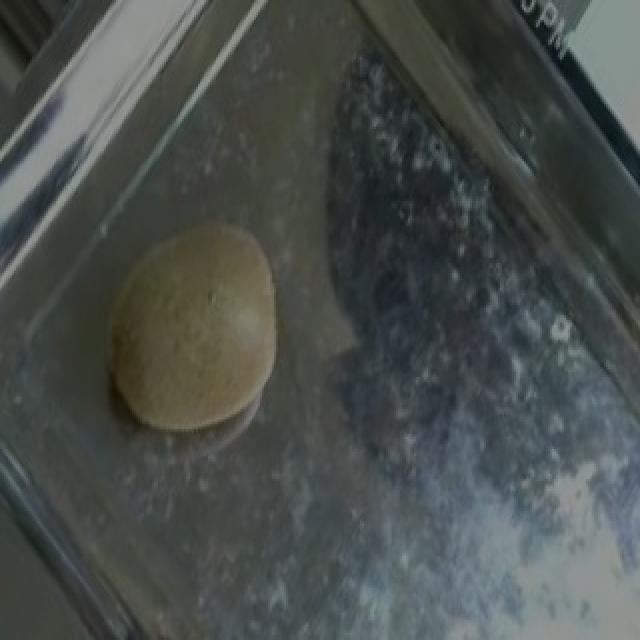Fruit: (70, 186, 314, 461)
